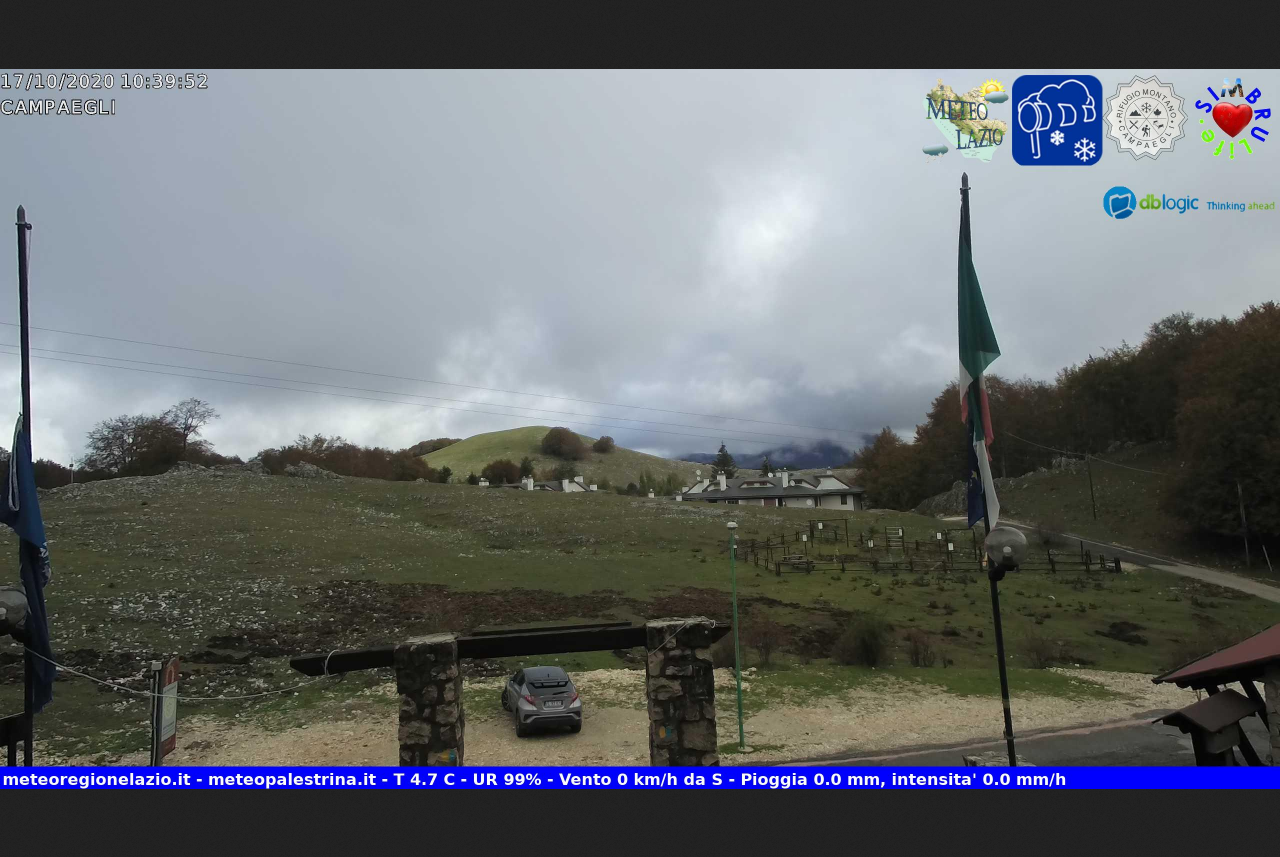no: (7, 415, 65, 715), (943, 173, 1005, 451), (957, 407, 1011, 548)
